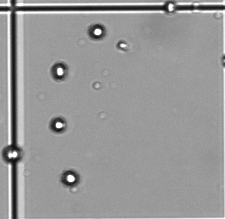Living Cell: (3, 145, 22, 163), (51, 62, 67, 81), (61, 170, 79, 186), (49, 116, 66, 132), (88, 23, 105, 39), (163, 1, 175, 13), (116, 40, 128, 49)
